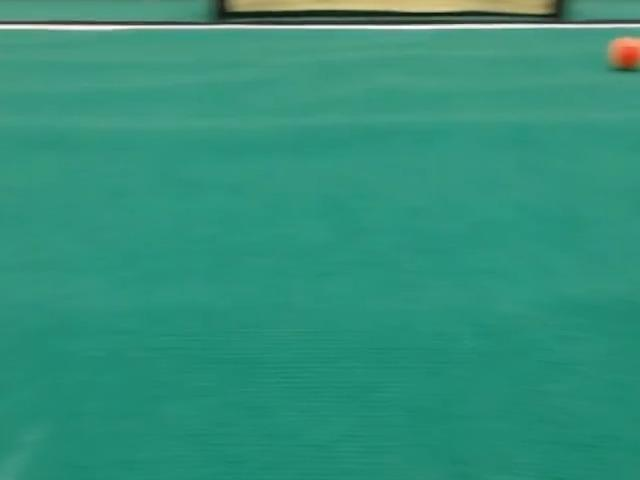Ball: (607, 37, 639, 70)
